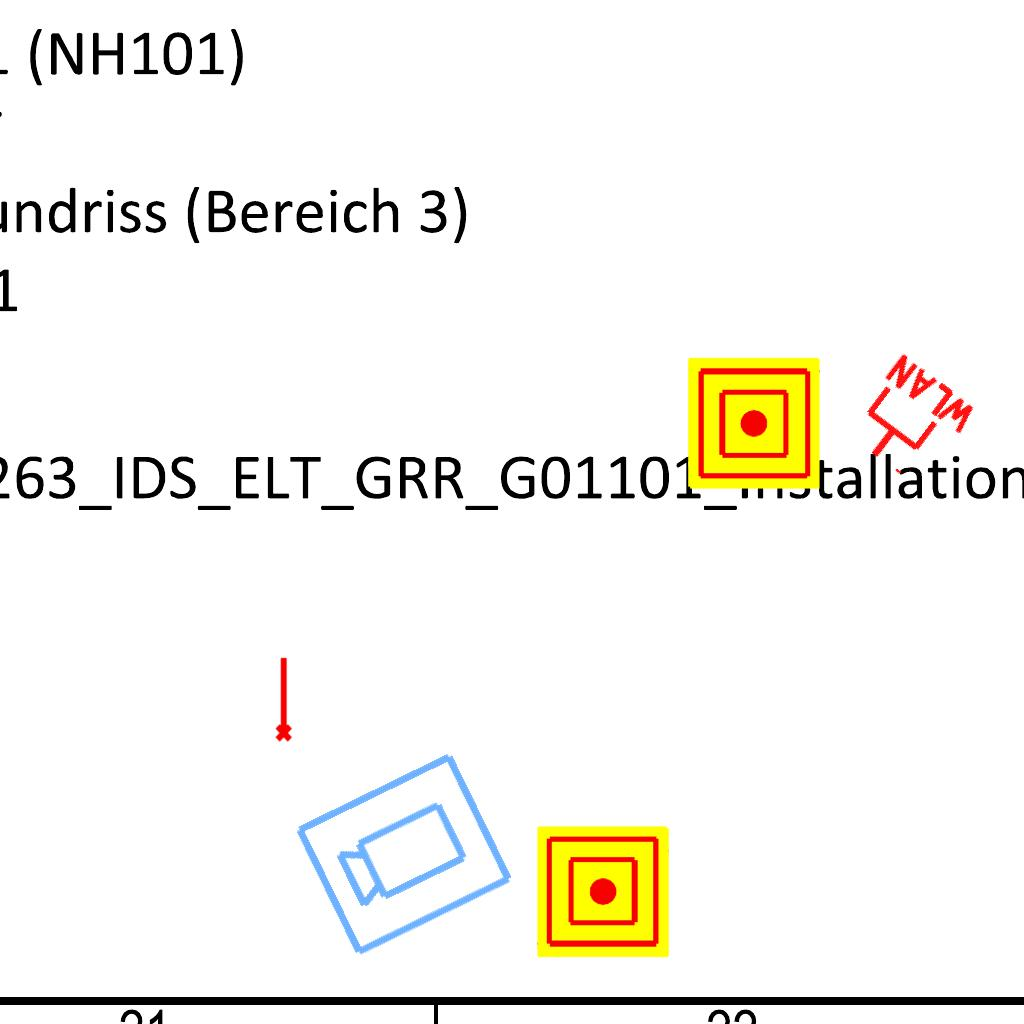ASR_Ansaugoeffnung: (271, 655, 294, 743)
KFO_Kamera_mit_Festobjektiv: (288, 743, 520, 963)
NAM-Nichtautomatischer_Melder: (537, 826, 669, 958), (688, 357, 820, 489)
WLAN: (837, 348, 984, 496)
